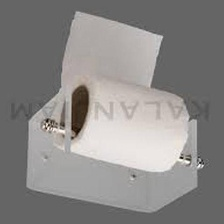tissue: (48, 5, 197, 178)
